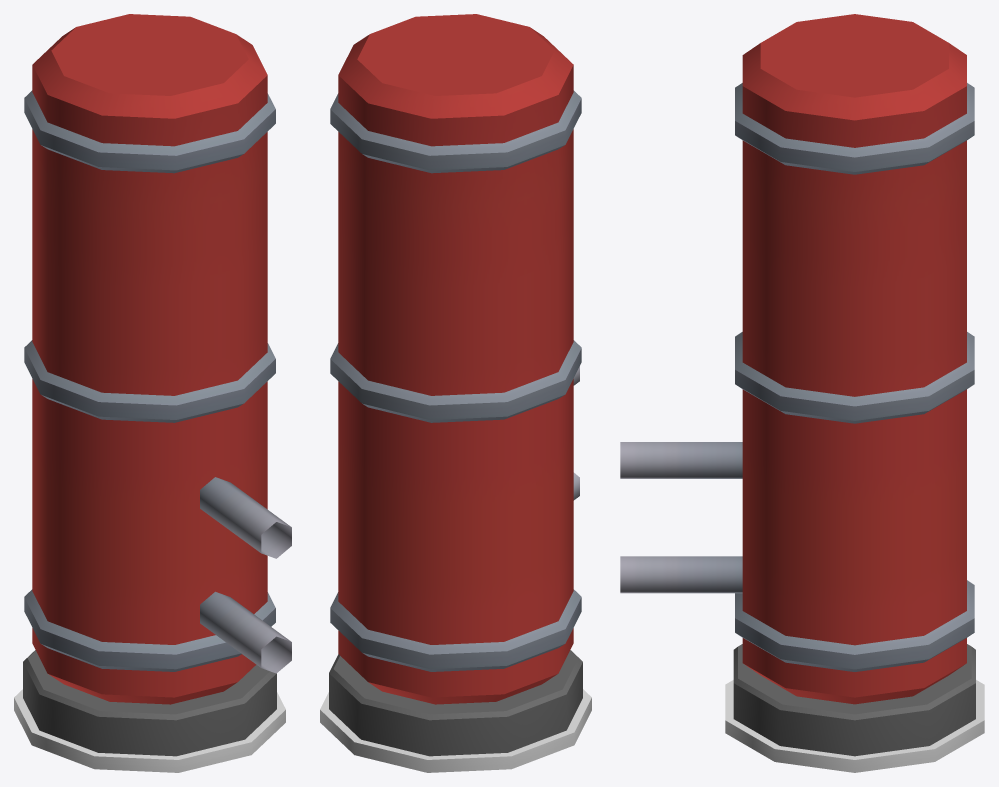
Rendered from GasTank_1_B.fbx.
3 renders of one model, left to right at view 1: azimuth 30°, elevation 25°; view 2: azimuth 150°, elevation 25°; view 3: azimuth 270°, elevation 25°, orthographic.
Visible parts, largest first — view 1: GasTank_1_B; view 2: GasTank_1_B; view 3: GasTank_1_B.
Boxes of the visible parts, bbox=[...] form: GasTank_1_B: bbox=[14, 14, 291, 772]; GasTank_1_B: bbox=[320, 14, 591, 772]; GasTank_1_B: bbox=[620, 14, 984, 772].
Size of the model in its own units: 284 by 758 by 379.
